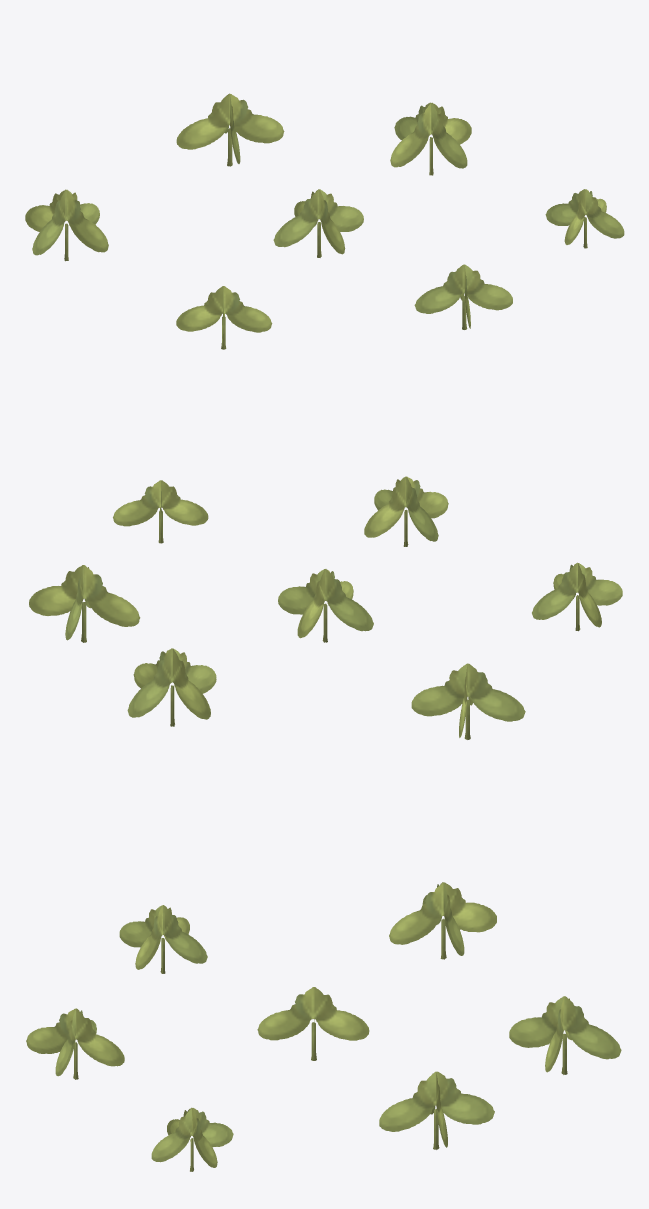
The model's file is crop_pumpkin_1.glb.
The picture shows the model from 3 angles, top to bottom: view 1: azimuth 30°, elevation 25°; view 2: azimuth 150°, elevation 25°; view 3: azimuth 270°, elevation 25°; orthographic projection. The views are drawn at different scales.
Parts seen in each view (by area): view 1: crop_pumpkin_1; view 2: crop_pumpkin_1; view 3: crop_pumpkin_1.
Part boxes in pixels (x1=…): crop_pumpkin_1: x1=25, y1=93, x2=624, y2=349; crop_pumpkin_1: x1=29, y1=476, x2=622, y2=739; crop_pumpkin_1: x1=26, y1=882, x2=621, y2=1171.
Size of the model in its own units: 0.6286 by 0.1508 by 0.6281.
1 material, 1 textured.
